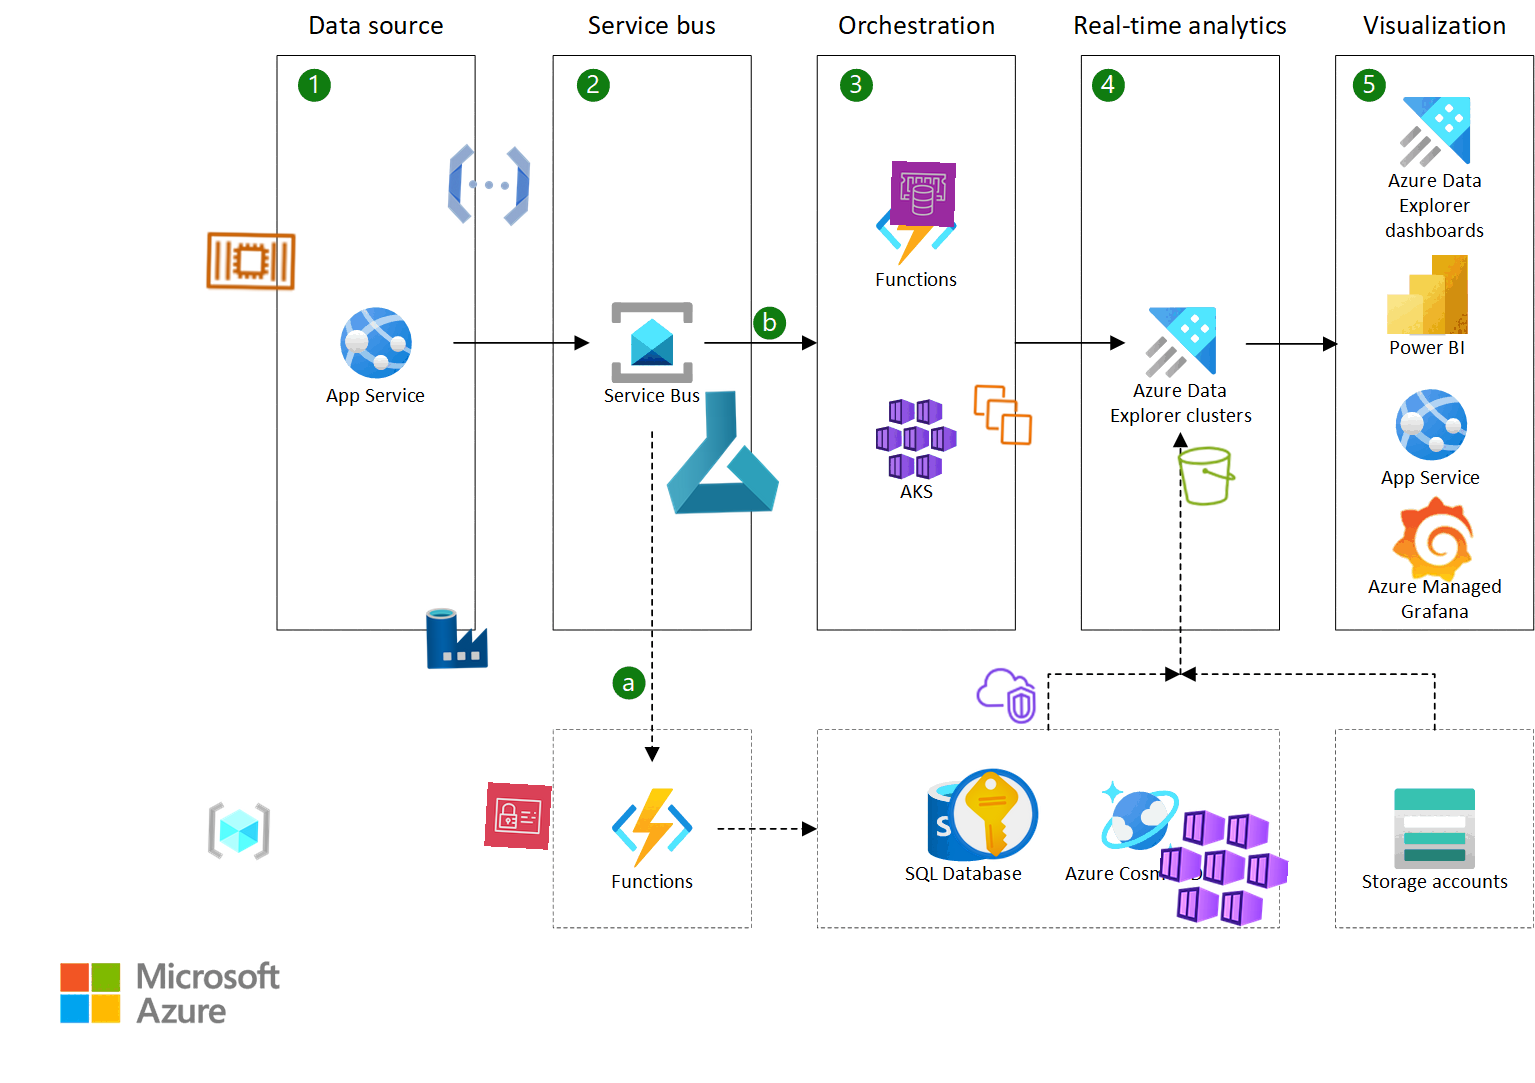aws_amazon_elasticache: (891, 161, 956, 227)
aws_ec2_instances: (969, 381, 1037, 449)
aws_elastic_container_service_container_2: (202, 212, 300, 309)
aws_identity_and_access_management: (484, 782, 552, 850)
aws_simple_storage_service_bucket: (1173, 442, 1241, 510)
aws_vpc_virtual_private_cloud_vpc: (973, 663, 1039, 729)
azure_data_factories: (424, 605, 490, 670)
azure_key_vaults: (941, 762, 1045, 866)
azure_kubernetes_services: (1155, 798, 1292, 936)
azure_machine_learning: (656, 386, 787, 518)
azure_resource_groups: (206, 798, 272, 864)
gcp_cloud_functions: (438, 134, 540, 236)
